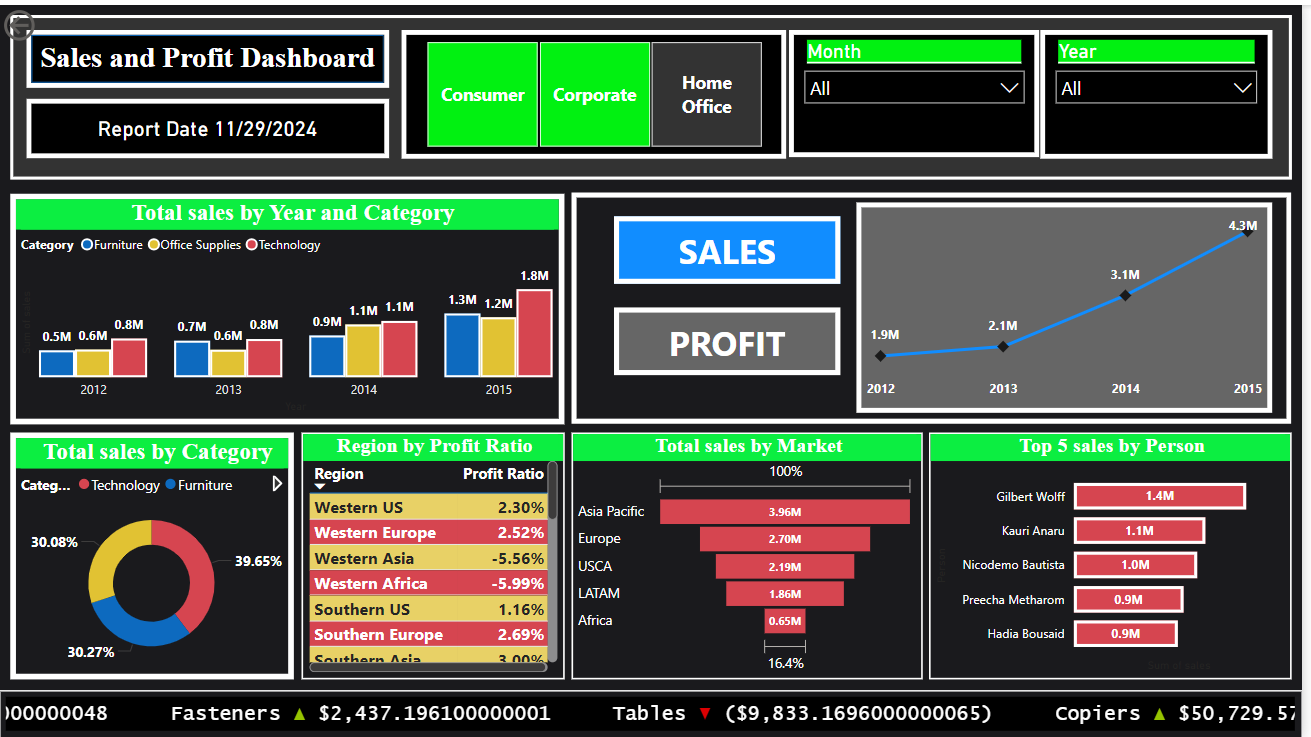

This screenshot's page, from the dashboard's own definition file:
{"tool":"powerbi","page":{"name":"Dashboard","canvas":[1280,720],"ordinal":0},"visuals":[{"type":"shape","box":[11.5,10.1,1258.1,161.6],"z":0},{"type":"shape","box":[562,184.1,706.8,227],"z":1000},{"type":"ScrollingTextVisual1448795304508","fields":{"Category":["Orders.Sub-Category"],"Measure Deviation":["Orders.Profit"]},"box":[0,672.3,1279.7,47.6],"z":2000},{"type":"barChart","title":"Top 5 sales by Person","fields":{"Y":["Orders.sales"],"Category":["People.Person"]},"box":[913.3,419.8,356.4,242.4],"z":3000},{"type":"funnel","title":"Total sales by Market","fields":{"Y":["Orders.sales"],"Category":["Orders.Market"]},"box":[561.7,419.8,344.8,242.4],"z":4000},{"type":"tableEx","title":"Region by Profit Ratio","fields":{"Values":["Orders.Region","Orders.Profit Ratio"]},"box":[296.7,419.8,258.3,242.4],"z":5000},{"type":"donutChart","title":"Total sales by Category","fields":{"Y":["Orders.sales"],"Category":["Orders.Category"]},"box":[11.5,419.8,278.5,242.4],"z":6000},{"type":"clusteredColumnChart","title":"Total sales by Year and Category","fields":{"Category":["Date Table.Date.Variation.Date Hierarchy.Year"],"Y":["Orders.sales"],"Series":["Orders.Category"]},"box":[11.5,184.7,543.9,226.5],"z":7000},{"type":"lineChart","fields":{"Category":["Date Table.Date.Variation.Date Hierarchy.Year"],"Y":["Orders.sales"]},"box":[841.1,193.3,408.3,206.3],"z":8000},{"type":"shape","title":"Sales_Blue","box":[603.1,207.8,222.2,66.4],"z":10000},{"type":"shape","title":"Profit_Gray","box":[603.1,297.2,222.2,66.4],"z":13000},{"type":"slicer","fields":{"Values":["Date Table.Date.Variation.Date Hierarchy.Year"]},"box":[1021.6,24.9,227.8,126.4],"z":14000},{"type":"slicer","fields":{"Values":["Date Table.Date.Variation.Date Hierarchy.Month"]},"box":[776,24.9,245.6,124.6],"z":15000},{"type":"slicer","fields":{"Values":["Orders.Segment"]},"box":[395.1,24.9,377.3,126.4],"z":16000},{"type":"card","fields":{"Values":["Date Table.Report_Date"]},"box":[26.7,92.5,356,58.7],"z":17000},{"type":"shape","box":[26.7,24.9,356,57],"z":18000},{"type":"actionButton","box":[0,0,100,40],"z":19000}]}

Visuals, with their boxes in screenshot pixels (x1, y1, x2, y2), scaled from the page's 1280x720 canvas onto the 1311x737 screenshot:
shape: l=12, t=10, r=1300, b=176
shape: l=576, t=188, r=1300, b=421
ScrollingTextVisual1448795304508 - Orders.Sub-Category x Orders.Profit: l=0, t=688, r=1310, b=736
"Top 5 sales by Person" barChart: l=935, t=430, r=1300, b=678
"Total sales by Market" funnel: l=575, t=430, r=928, b=678
"Region by Profit Ratio" tableEx: l=304, t=430, r=568, b=678
"Total sales by Category" donutChart: l=12, t=430, r=297, b=678
"Total sales by Year and Category" clusteredColumnChart: l=12, t=189, r=569, b=421
lineChart - Date Table.Date.Variation.Date Hierarchy.Year x Orders.sales: l=861, t=198, r=1280, b=409
"Sales_Blue" shape: l=618, t=213, r=845, b=281
"Profit_Gray" shape: l=618, t=304, r=845, b=372
slicer - Date Table.Date.Variation.Date Hierarchy.Year: l=1046, t=25, r=1280, b=155
slicer - Date Table.Date.Variation.Date Hierarchy.Month: l=795, t=25, r=1046, b=153
slicer - Orders.Segment: l=405, t=25, r=791, b=155
card - Date Table.Report_Date: l=27, t=95, r=392, b=155
shape: l=27, t=25, r=392, b=84
actionButton: l=0, t=0, r=102, b=41
